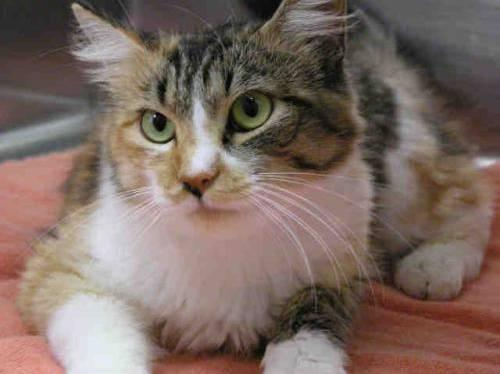cat: (17, 0, 491, 373)
